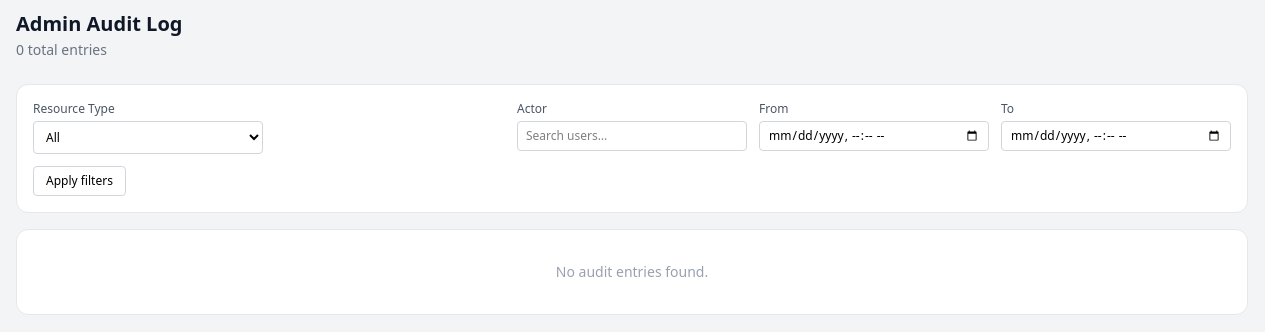
Test: AdminAuditPage › shows Resource EntitySelect when resource type is selected
// Select resource type
Select "Role" in the dropdown showing "All": (148, 138) [33, 121, 263, 154]
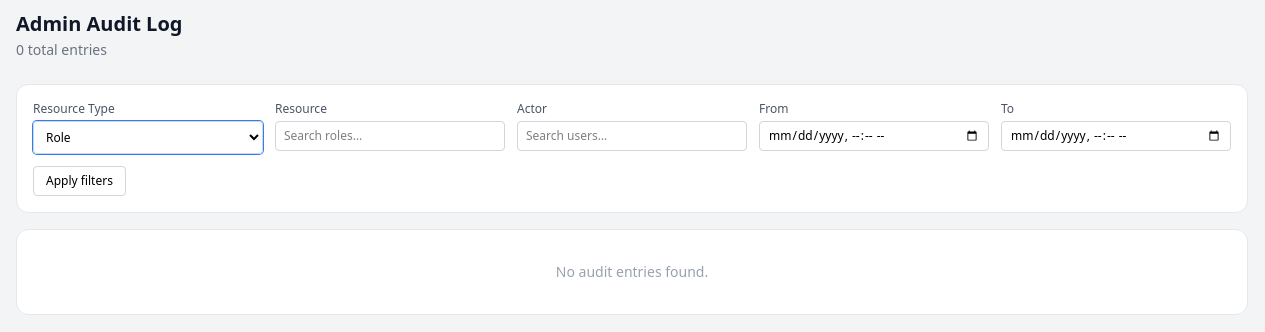
Now the text "Resource" is shown, box [275, 100, 327, 117]
Now the dropdown with placeholder "Search roles…" is shown, box [275, 121, 505, 151]
